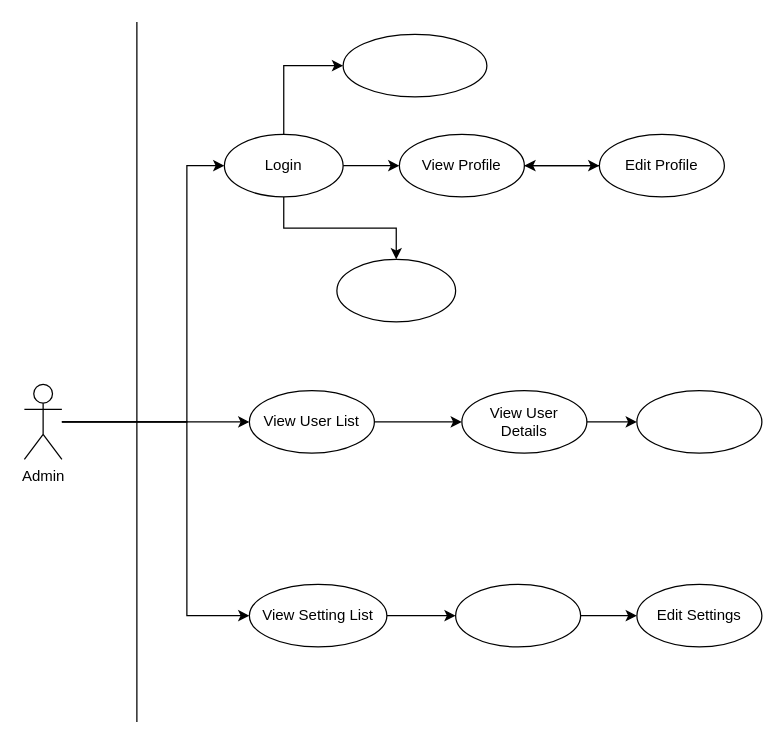
Some shapes in this 784 by 745 pixel diagram are drawn without their labels. Here are the shapes that lost their labels. From the top down, the box of each, then its label:
(342, 33, 487, 97): Forget Password
(336, 258, 456, 322): Logout
(636, 389, 762, 453): Edit User Role/Status
(454, 583, 581, 647): View Setting Details
